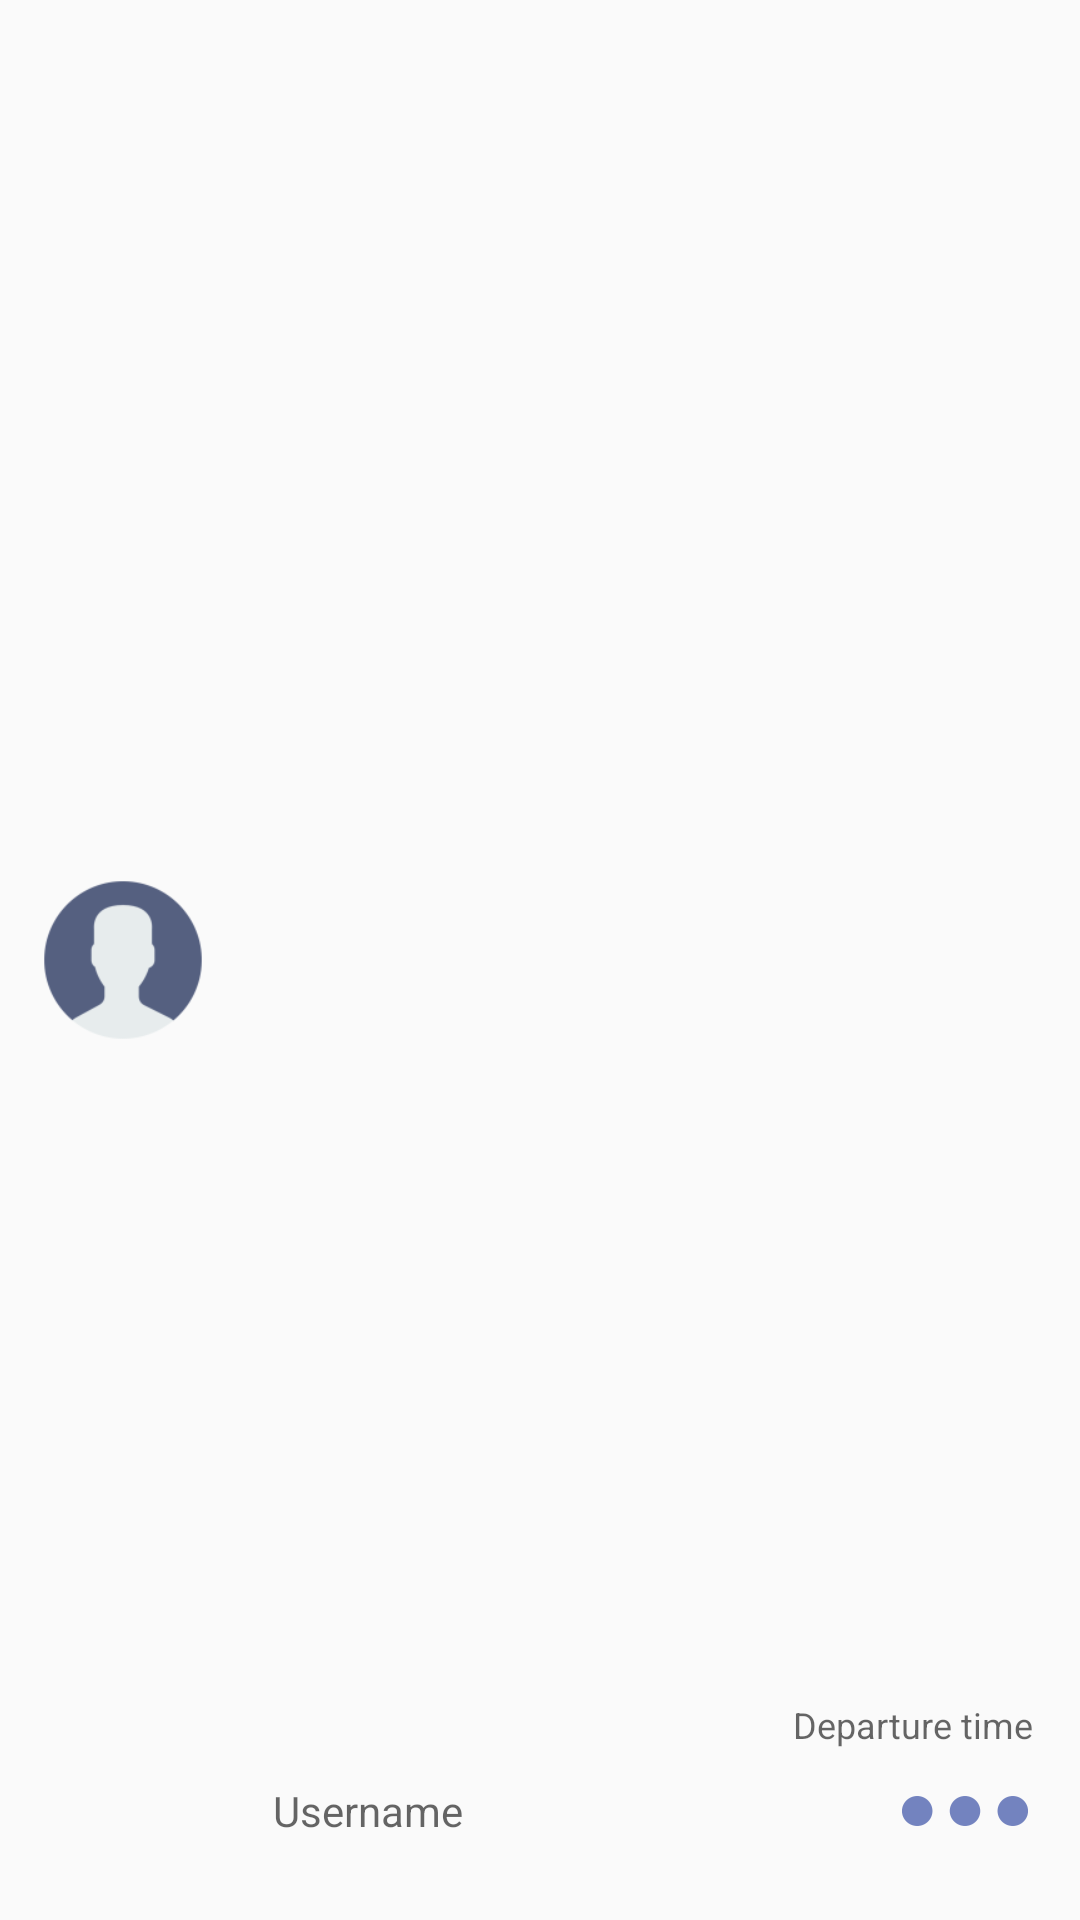

Icons on this 1080x1920 Android screen, each with the point to tap as [x,y]:
item user: [123,951]
